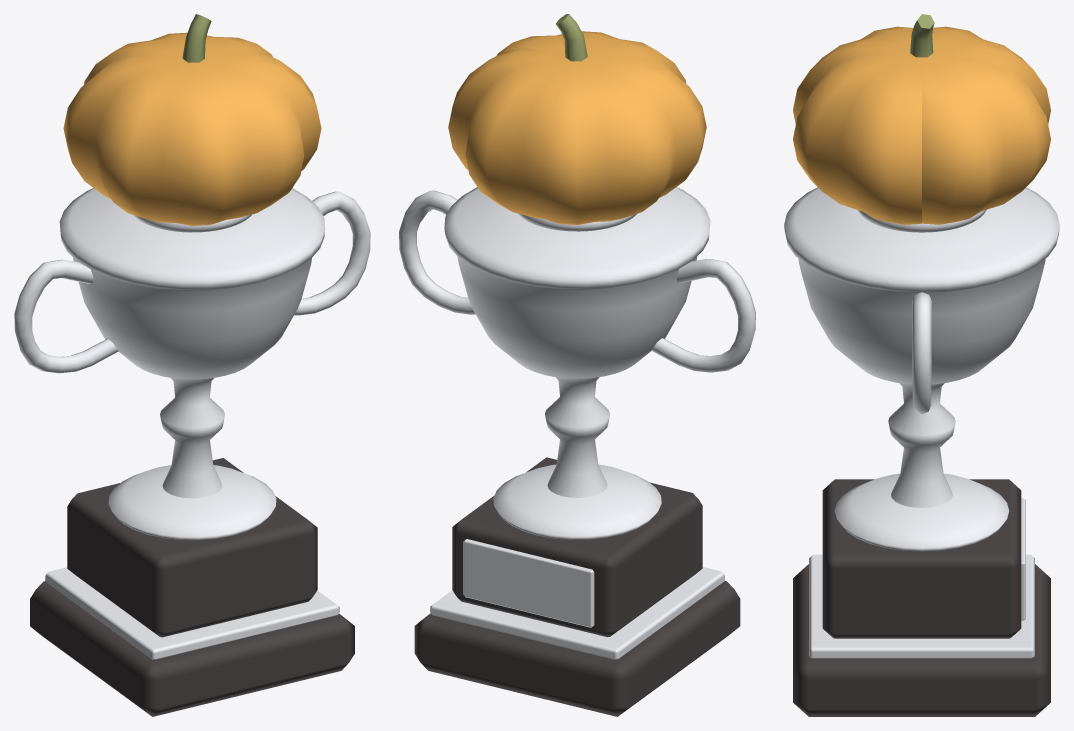
Rendered from item-pumpkin-trophy-3.glb.
The picture shows the model from 3 angles, left to right: view 1: azimuth 30°, elevation 25°; view 2: azimuth 150°, elevation 25°; view 3: azimuth 270°, elevation 25°; orthographic projection. The views are drawn at different scales.
Bounding box in the file's own units: 0.2136 × 0.3668 × 0.139.
